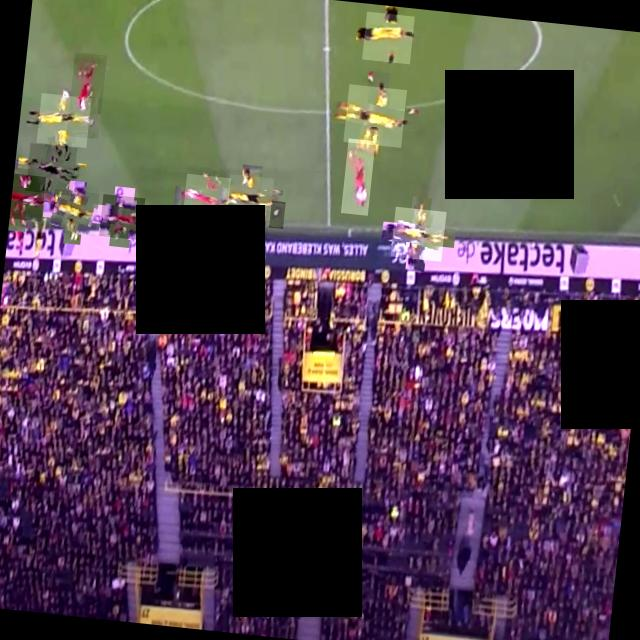ball: (268, 200, 286, 228)
referee: (25, 142, 77, 195)
soccer-player: (342, 84, 407, 148), (66, 52, 106, 139), (390, 206, 446, 262), (36, 92, 91, 148), (362, 11, 414, 64), (340, 138, 375, 215), (182, 174, 230, 224), (50, 188, 99, 236), (226, 174, 274, 220), (99, 193, 144, 240), (8, 173, 46, 221), (244, 208, 269, 260)
